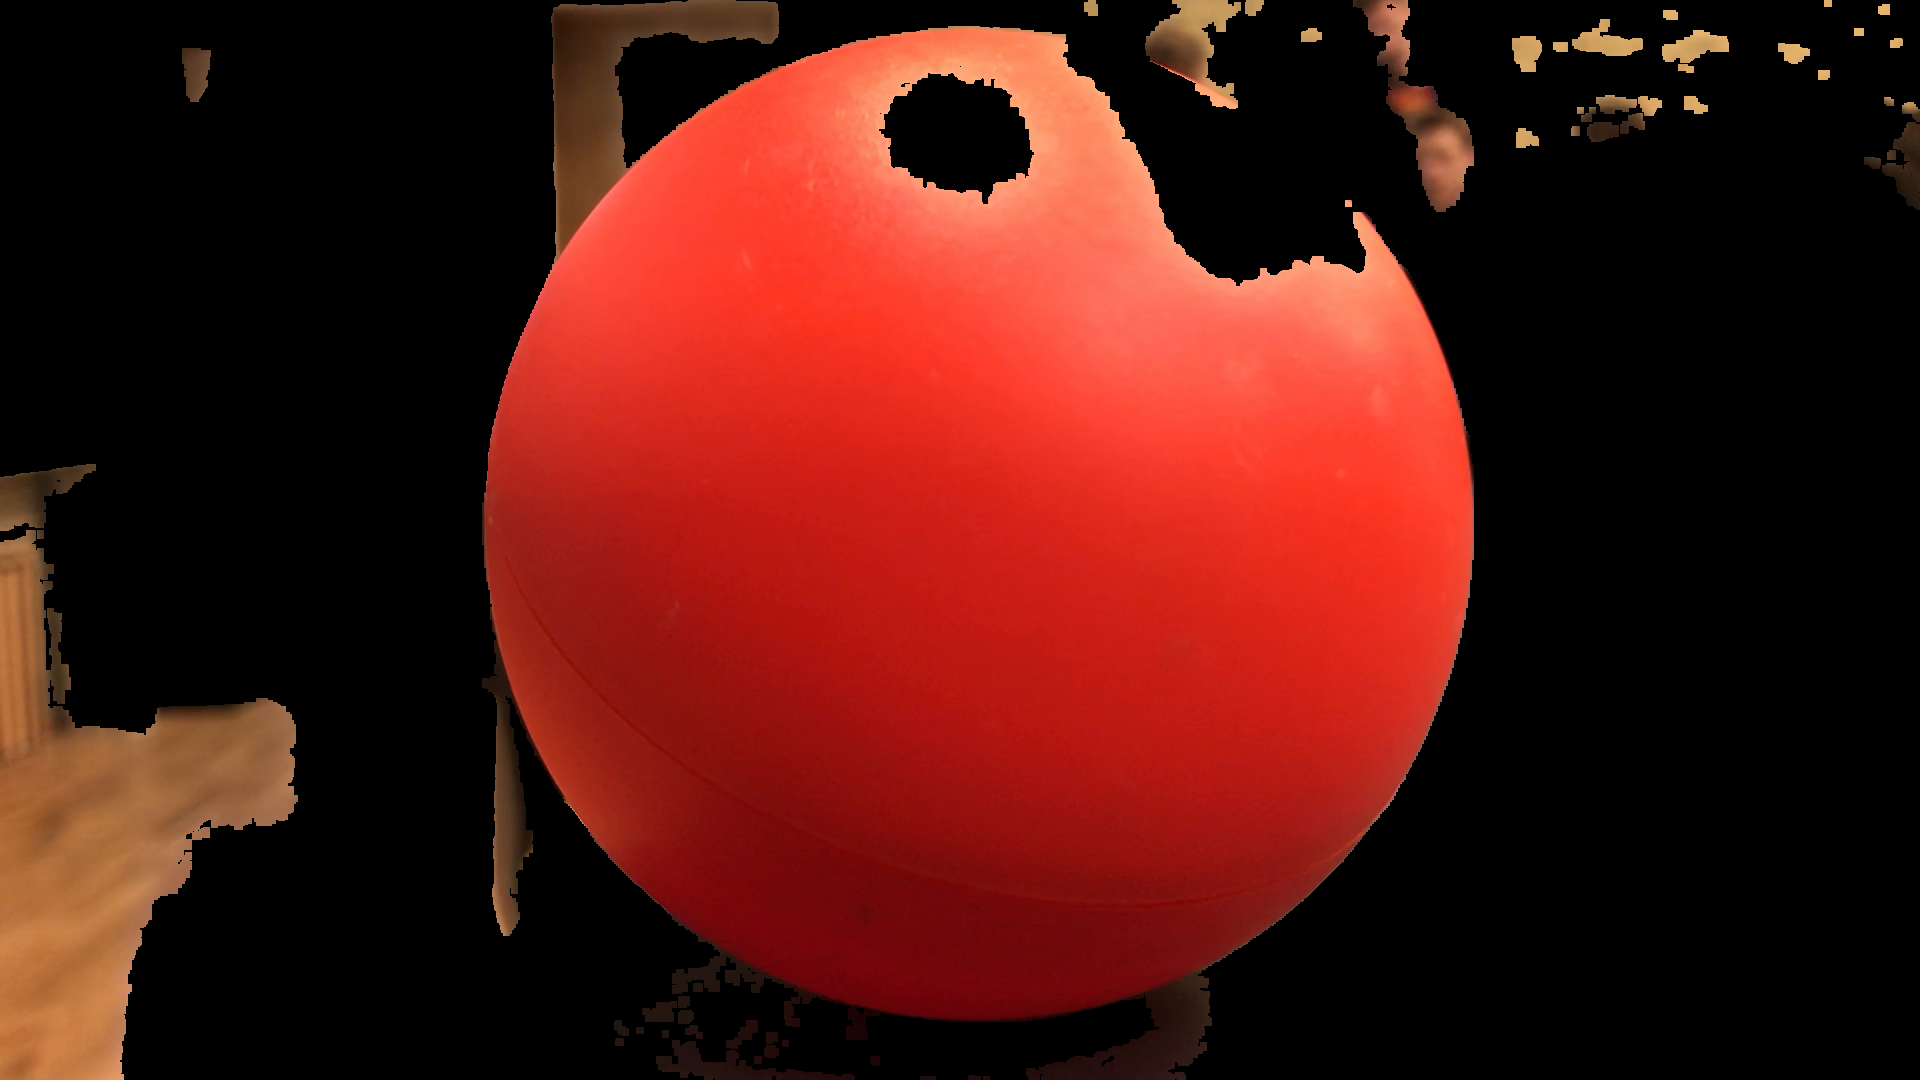Ball: (492, 30, 1477, 1026)
